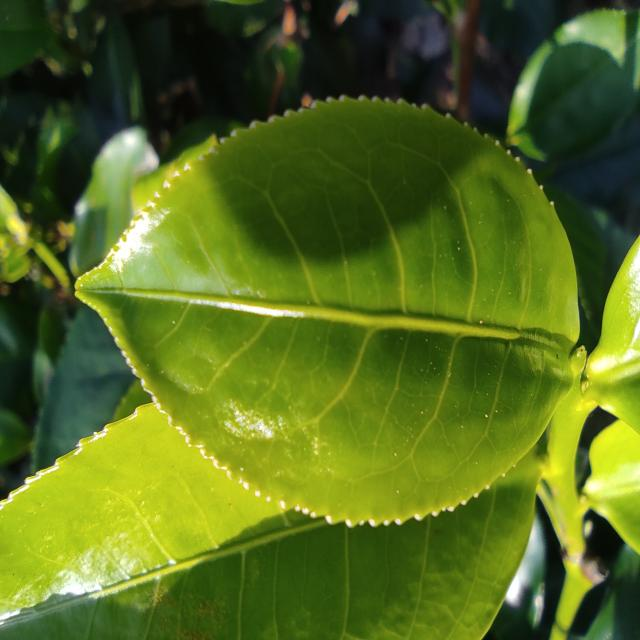Category B(2-4 days): (65, 79, 592, 536)
